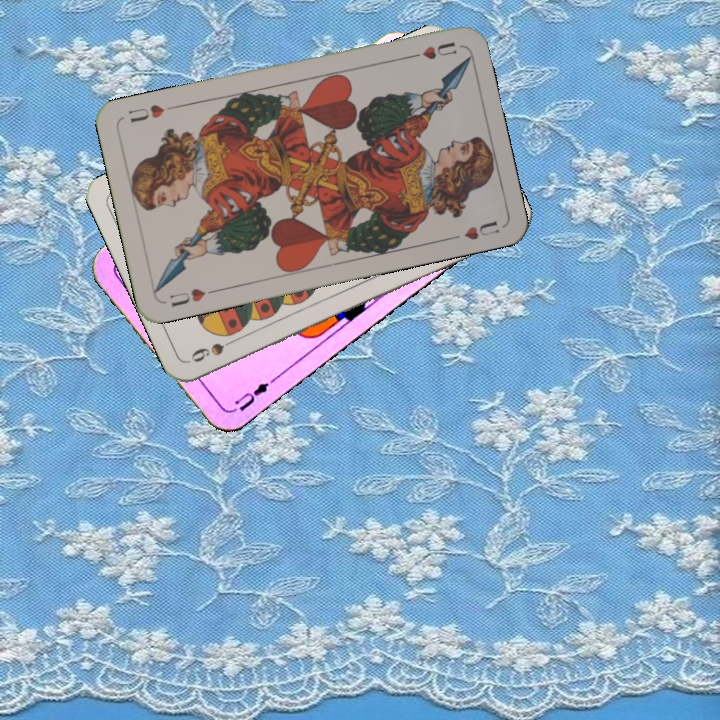EU: (230, 378, 272, 414)
HU: (403, 37, 460, 62), (165, 284, 219, 310)
S9: (186, 333, 243, 365)
